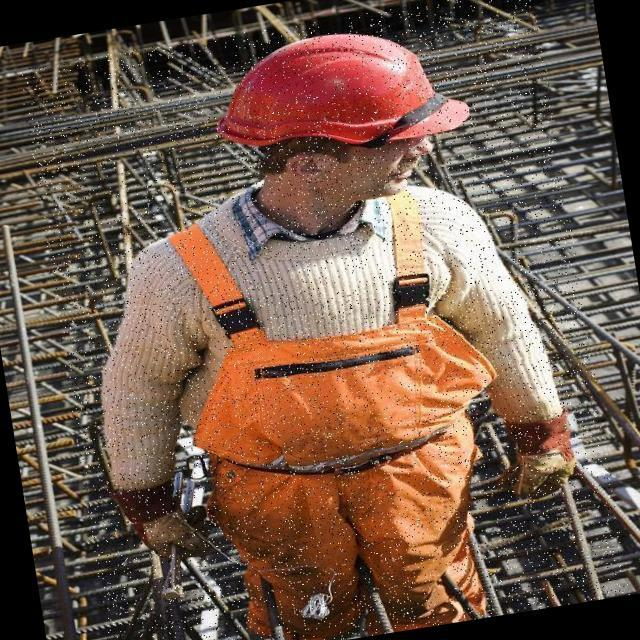Gloves: (500, 399, 578, 536), (123, 488, 210, 577)
Helmet: (192, 30, 468, 161)
Person: (77, 2, 598, 640)
no-vest: (156, 178, 504, 491)
